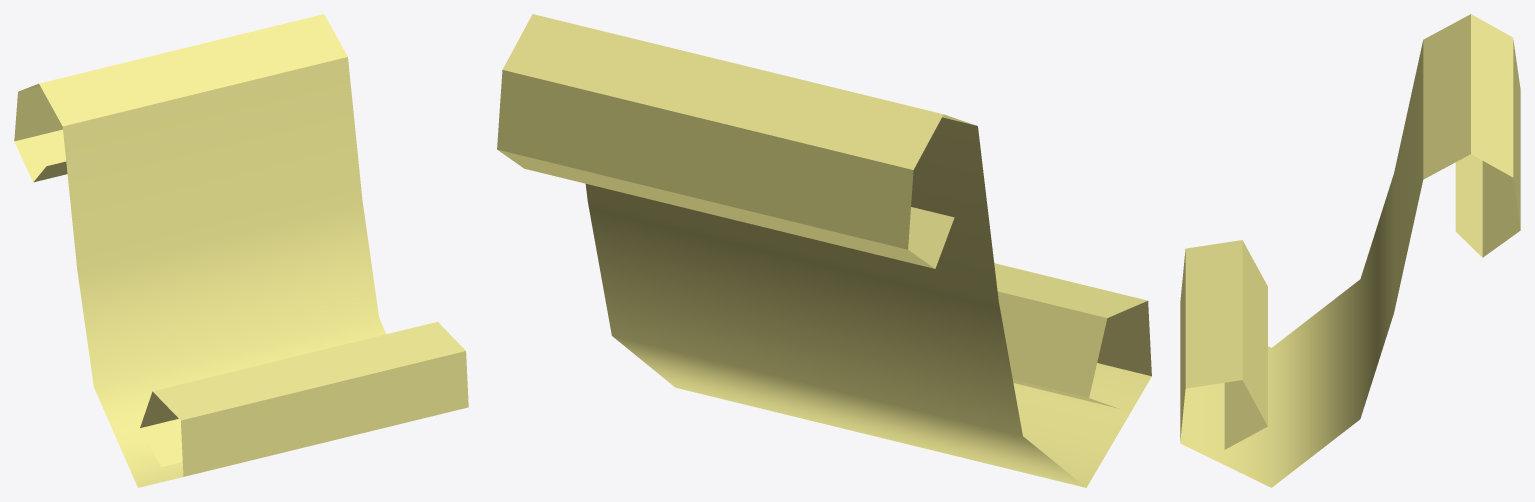
File: ScrollKeypad.fbx
3 renders of one model, left to right at view 1: azimuth 30°, elevation 25°; view 2: azimuth 150°, elevation 25°; view 3: azimuth 270°, elevation 25°, orthographic. The views are drawn at different scales.
Visible parts, largest first — view 1: Plane001; view 2: Plane001; view 3: Plane001.
Part boxes in pixels (x1,y1,x2,y2): Plane001: (14, 14, 468, 487); Plane001: (497, 14, 1151, 487); Plane001: (1180, 14, 1520, 487).
Bounding box in the file's own units: 13462 × 14965 × 13832.
